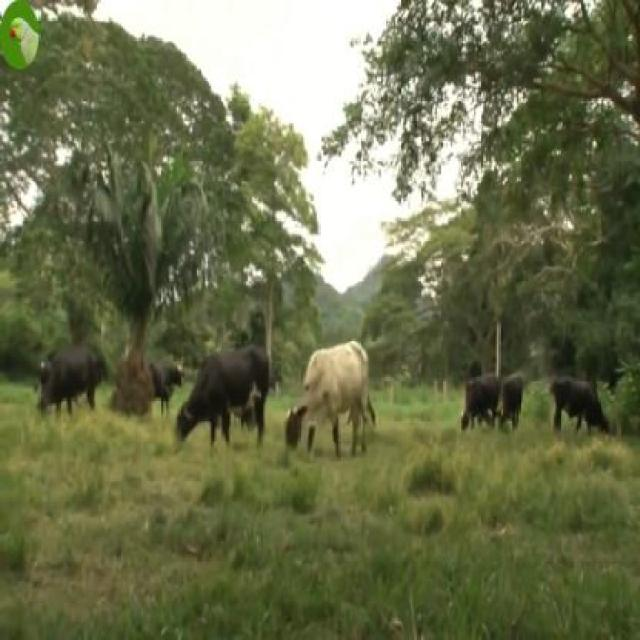Cow: (285, 341, 372, 474), (174, 343, 269, 451), (38, 349, 98, 422), (550, 374, 604, 444)
